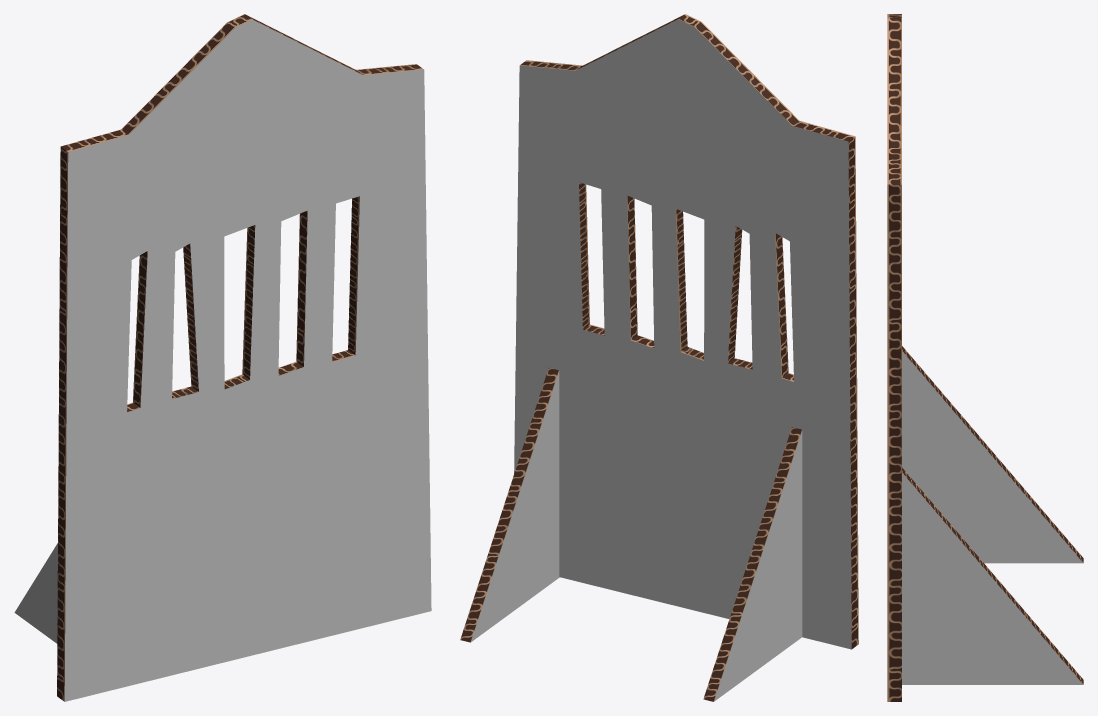
File: Prison.fbx
The picture shows the model from 3 angles, left to right: view 1: azimuth 30°, elevation 25°; view 2: azimuth 150°, elevation 25°; view 3: azimuth 270°, elevation 25°; orthographic projection. The views are drawn at different scales.
Parts seen in each view (by area): view 1: Prison_LOD0; view 2: Prison_LOD0; view 3: Prison_LOD0.
Boxes of the visible parts, x1,y1,x2,y2 form: Prison_LOD0: (14, 14, 431, 701); Prison_LOD0: (460, 14, 858, 701); Prison_LOD0: (887, 14, 1083, 701).
Size of the model in its own units: 584 by 968 by 286.
